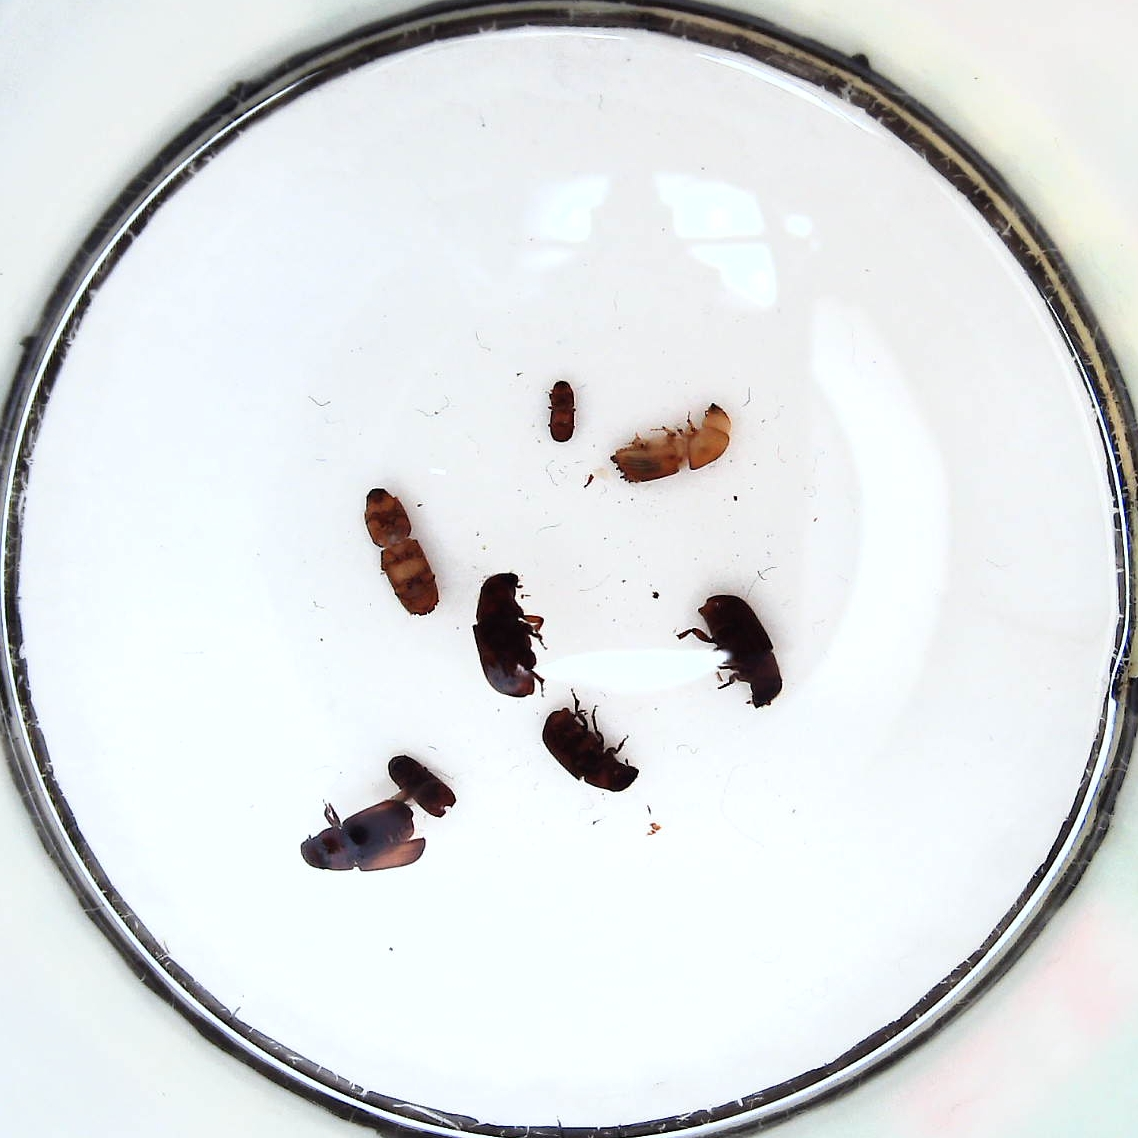Boerner: (362, 483, 442, 618), (611, 401, 736, 485)
Leconte: (681, 593, 783, 711), (298, 795, 426, 875), (469, 570, 546, 700), (541, 703, 642, 791)
Linnaeus: (385, 752, 459, 819)
acuminatus: (544, 377, 578, 445)
